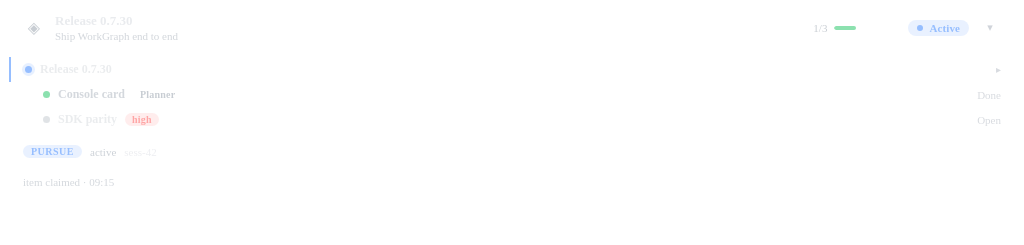
Test: WorkGraphCard › expands a row to reveal detail and collapses the whole card from the header toggle
The image size is (1024, 245).
Click the button with test id "workgraph-item:goal-1" at (76, 69), box [11,57,1015,82]
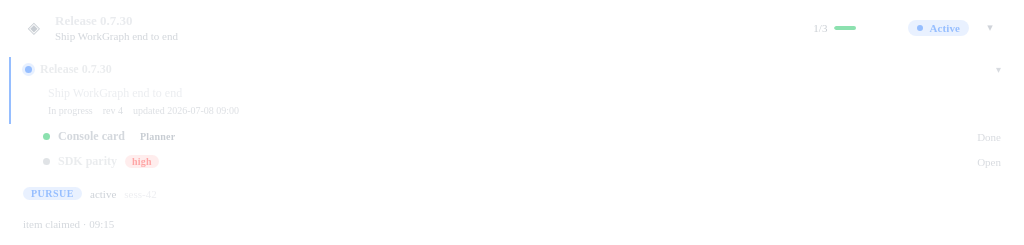
Check: the text "rev 4" is shown, box [103,105,123,116]
Click the button with test id "workgraph-card:goal-1:toggle" at (990, 28), box [979,16,1001,38]
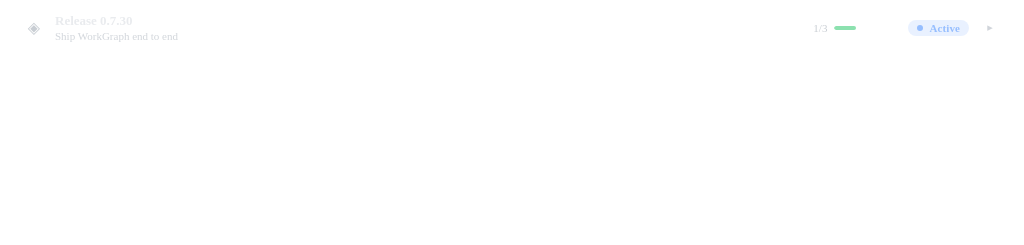
Check: the button "Console card" is gone
